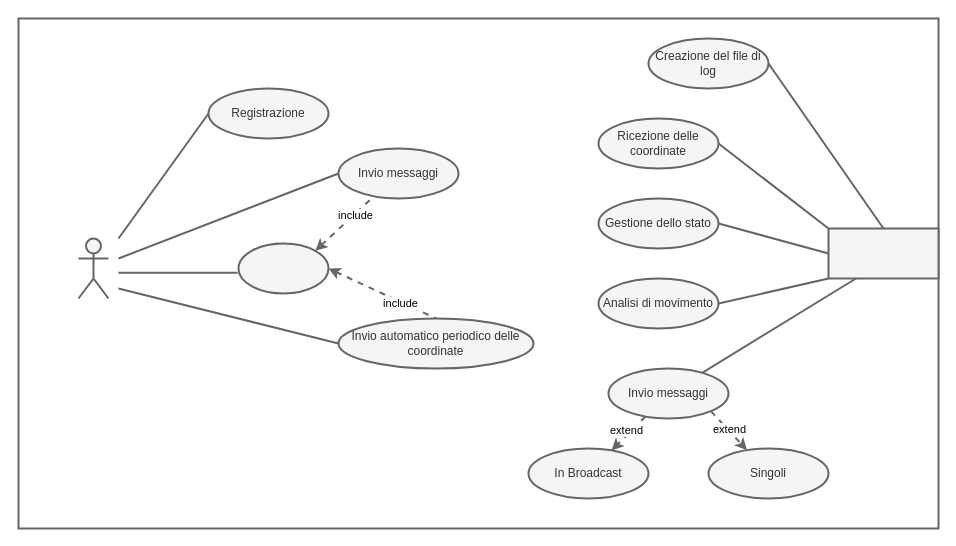
The diagram is 956 pixels wide and 546 high, and some of its shapes have lost their labels. Here are the shapes that lost their labels. From the top down, the centre of each, then its label:
At point (93, 268): "Utente".
At point (283, 268): "Login".
At point (883, 253): "«system» GeoRust".
